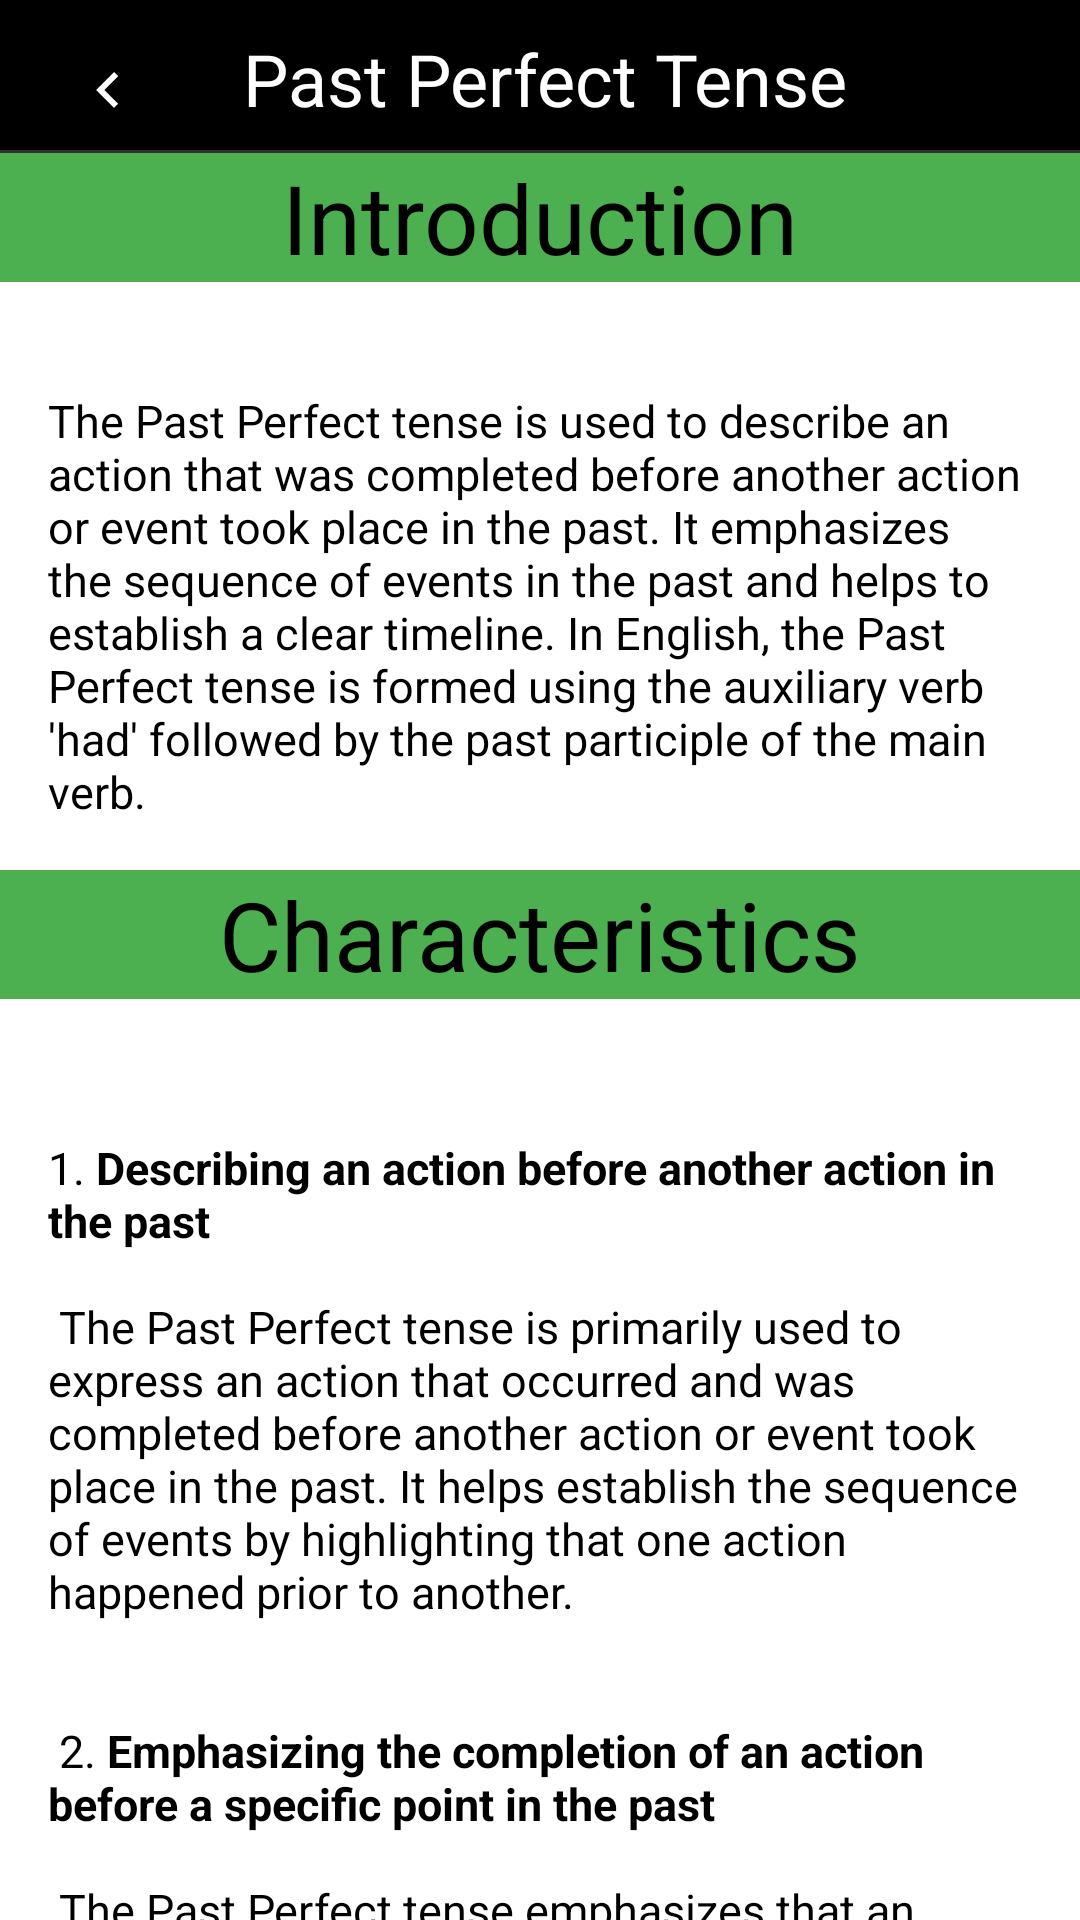

Named icons in this screenshot (1080x1920) and their centers, (x,y):
backbt: (107,90)
